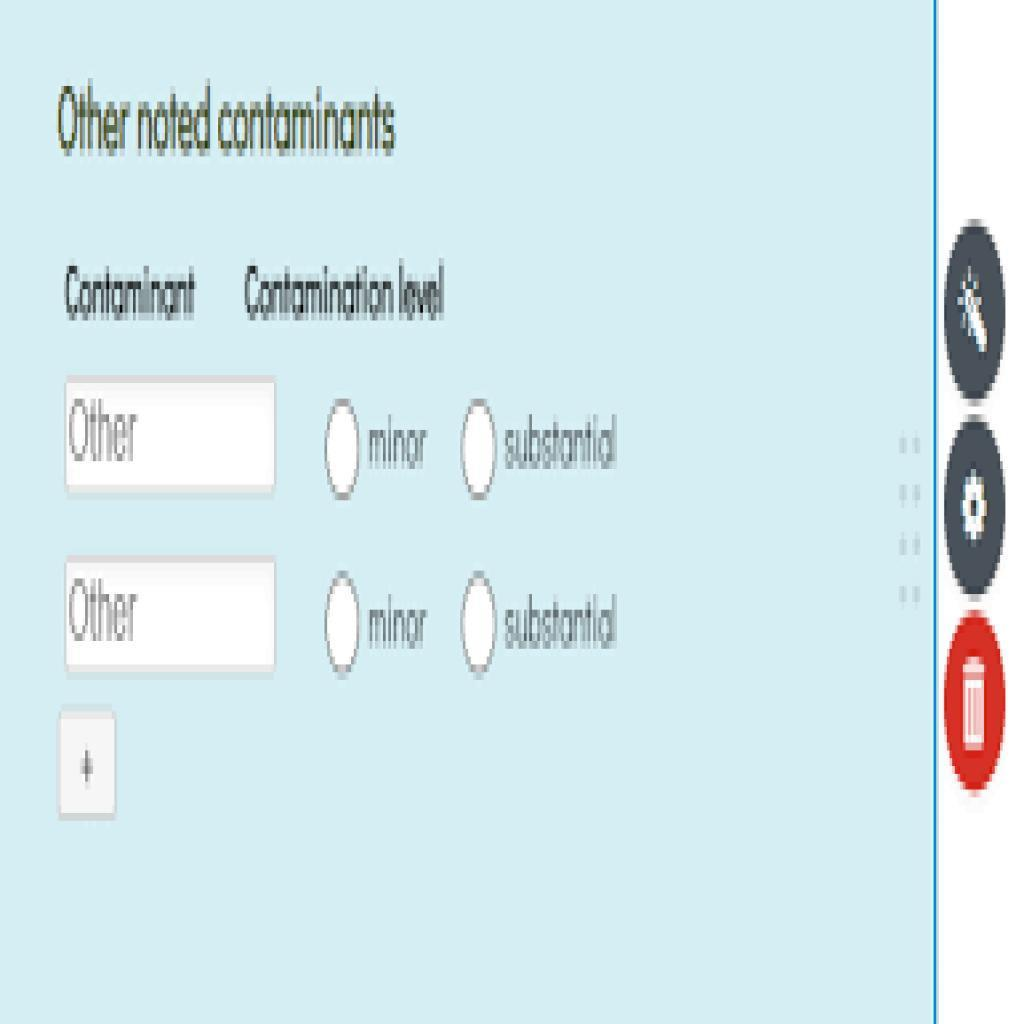button: (59, 717, 118, 816)
input: (67, 556, 280, 674), (73, 379, 273, 489)
label: (53, 84, 406, 165), (236, 261, 456, 331), (65, 261, 205, 327), (502, 411, 627, 479), (502, 599, 623, 661), (363, 413, 434, 475), (368, 599, 424, 654)
radio: (457, 396, 499, 500), (457, 573, 498, 679), (323, 573, 363, 679), (324, 400, 365, 502)
